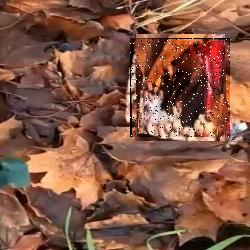plastic: (130, 38, 230, 137)
